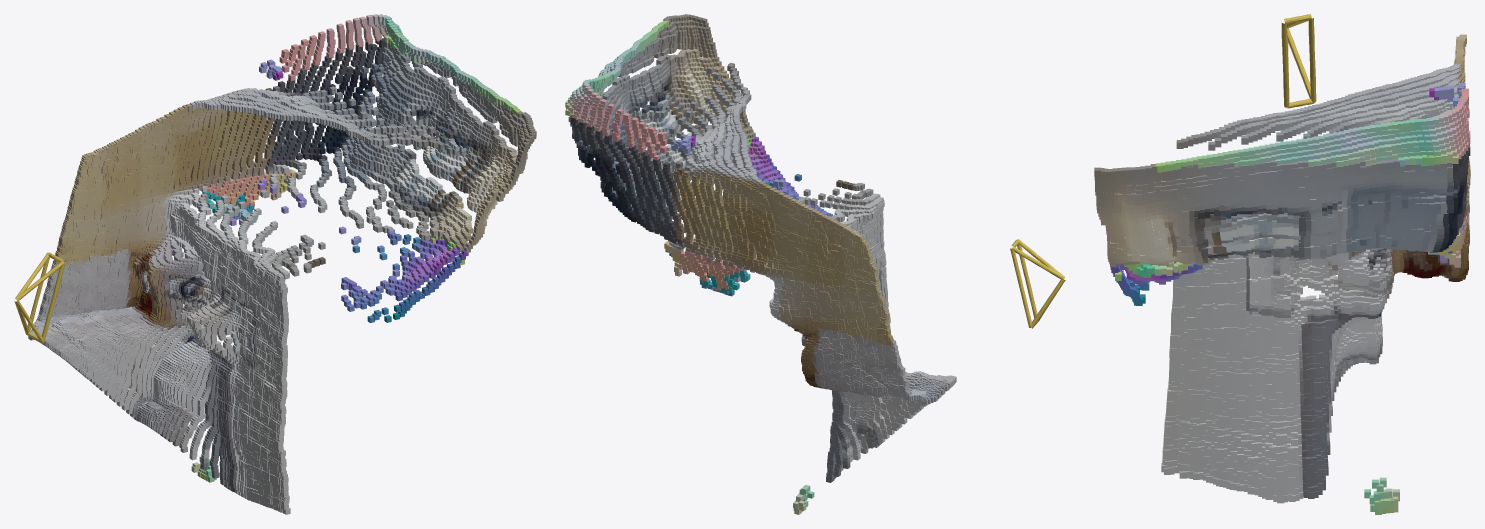
File: pred_2-compressed.glb
3 renders of one model, left to right at view 1: azimuth 30°, elevation 25°; view 2: azimuth 150°, elevation 25°; view 3: azimuth 270°, elevation 25°, orthographic. The views are drawn at different scales.
Size of the model in its own units: 4.96 by 4.12 by 2.71.
